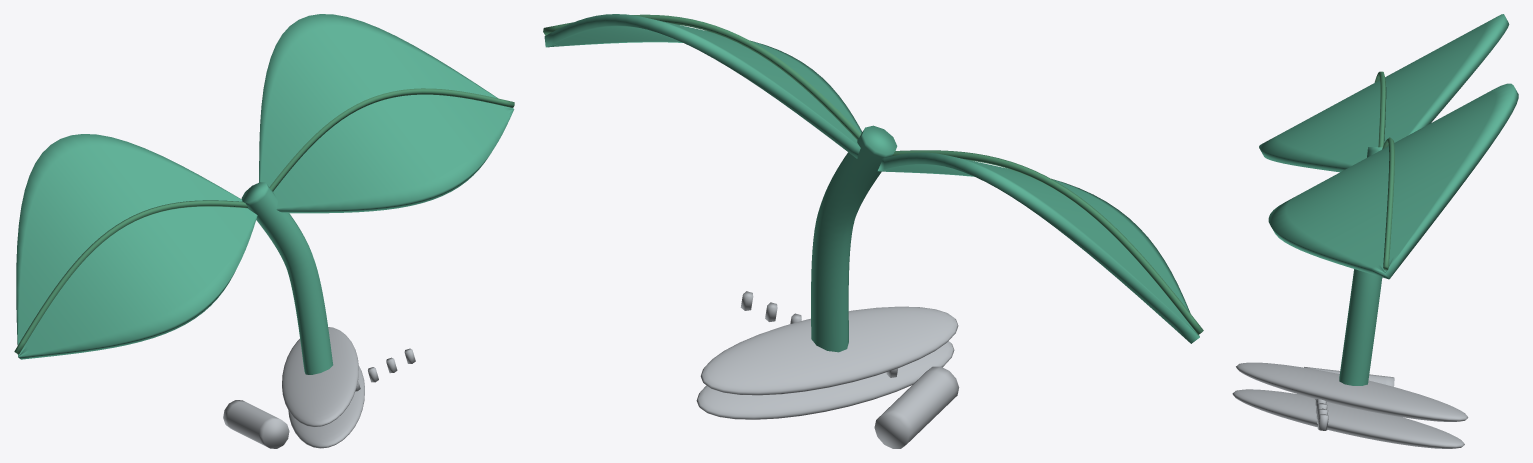
The model's file is Feminine-box-braids--ears-sprout.glb.
The picture shows the model from 3 angles, left to right: view 1: azimuth 30°, elevation 25°; view 2: azimuth 150°, elevation 25°; view 3: azimuth 270°, elevation 25°; orthographic projection. The views are drawn at different scales.
Visible parts, largest first — view 1: 226 extra / Accessory / mint226, 226 extra / Sprout / clip silver235, 226 extra / Sprout / leaf vein235; view 2: 226 extra / Accessory / mint226, 226 extra / Sprout / clip silver235, 226 extra / Sprout / leaf vein235; view 3: 226 extra / Accessory / mint226, 226 extra / Sprout / clip silver235, 226 extra / Sprout / leaf vein235.
Boxes of the visible parts, x1,y1,x2,y2 form: 226 extra / Accessory / mint226: (16,14,514,374); 226 extra / Sprout / clip silver235: (223,327,415,448); 226 extra / Sprout / leaf vein235: (14,88,514,354); 226 extra / Accessory / mint226: (544,14,1199,352); 226 extra / Sprout / clip silver235: (696,291,959,448); 226 extra / Sprout / leaf vein235: (543,14,1203,334); 226 extra / Accessory / mint226: (1259,14,1518,385); 226 extra / Sprout / clip silver235: (1232,362,1468,448); 226 extra / Sprout / leaf vein235: (1374,71,1394,270).
Bounding box in the file's own units: 0.2649 × 0.1709 × 0.1135.
